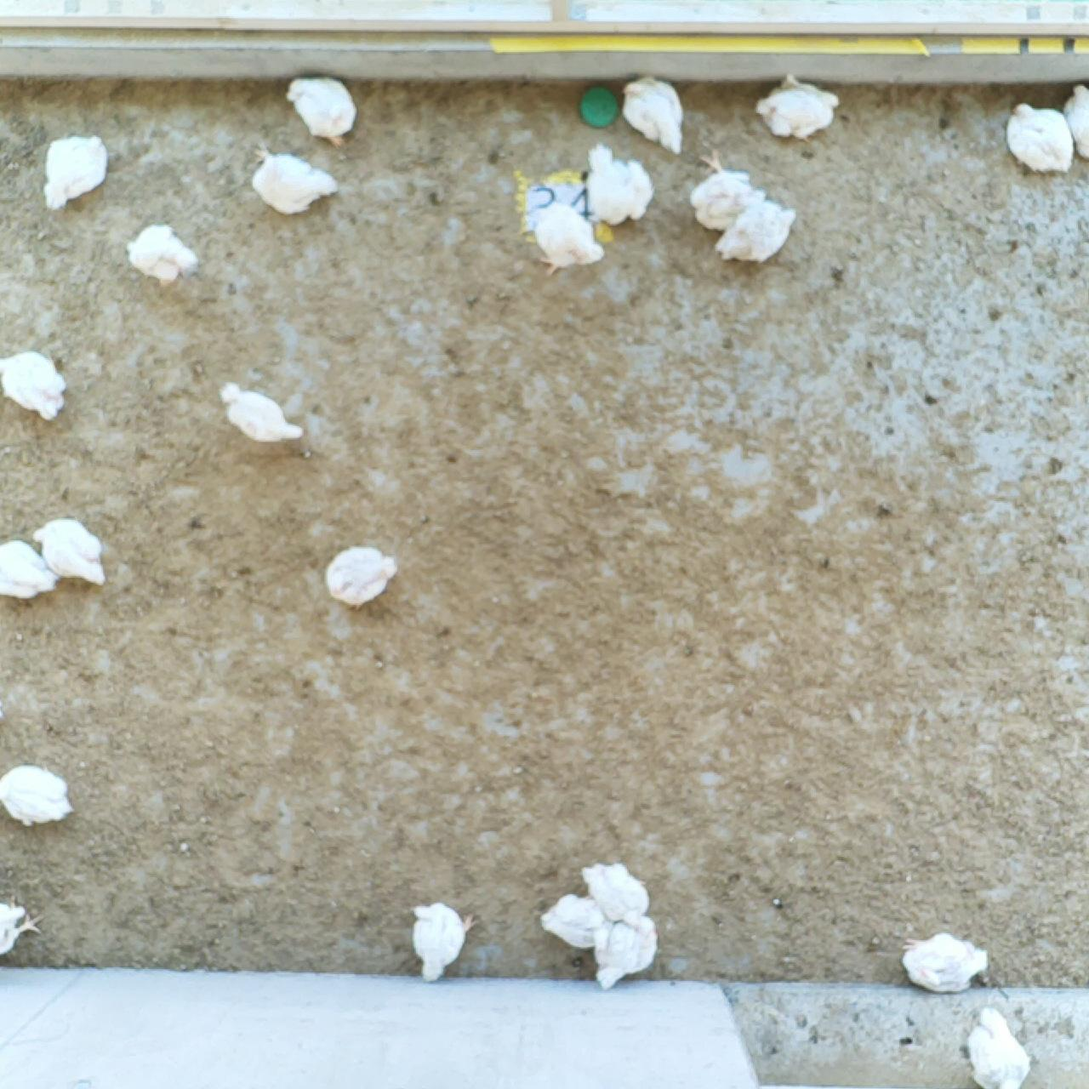chicken: (687, 151, 767, 231), (249, 147, 339, 217), (408, 900, 478, 984), (581, 145, 653, 223), (900, 932, 989, 994), (219, 380, 308, 442), (717, 197, 797, 265), (757, 77, 840, 142), (967, 1006, 1031, 1089), (621, 75, 685, 156), (31, 519, 105, 589), (1006, 100, 1074, 176), (43, 134, 108, 213), (126, 221, 202, 288), (533, 204, 602, 275), (2, 764, 75, 830), (287, 74, 357, 142), (598, 910, 657, 989), (328, 544, 398, 610), (539, 892, 617, 951), (3, 349, 66, 421), (581, 861, 648, 923), (2, 539, 61, 602), (1, 898, 37, 953), (1066, 79, 1089, 159)
